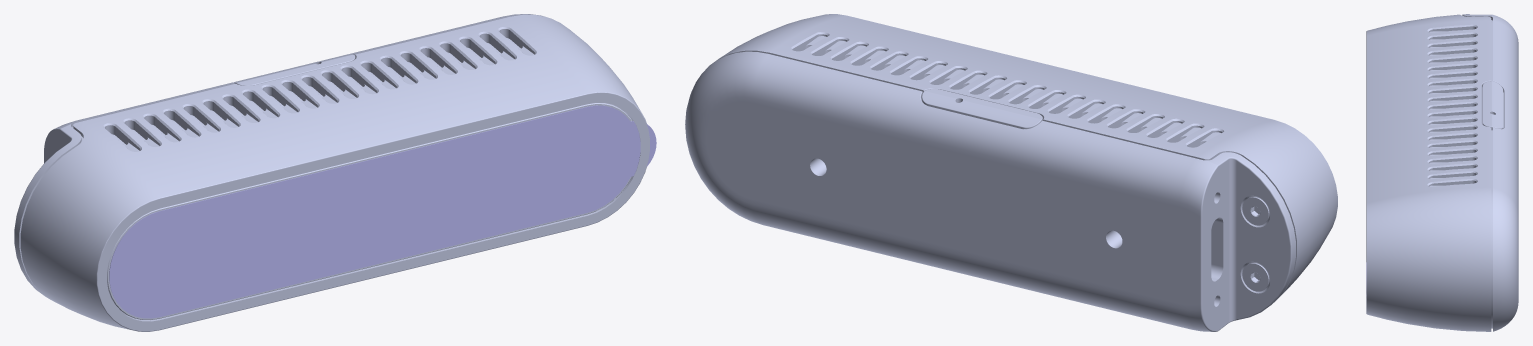
Rendered from camera.obj.
3 views of the same model, side by side, from view 1: azimuth 30°, elevation 25°; view 2: azimuth 150°, elevation 25°; view 3: azimuth 270°, elevation 25° (orthographic). The views are drawn at different scales.
Parts seen in each view (by area): view 1: D435i, cvr; view 2: D435i; view 3: D435i.
Boxes of the visible parts, left/top/right/bottom form: D435i: left=14, top=14, right=649, bottom=331; cvr: left=109, top=105, right=656, bottom=318; D435i: left=685, top=14, right=1337, bottom=331; D435i: left=1366, top=14, right=1518, bottom=331.
Bounding box in the file's own units: 89.82 × 25 × 25.05.
